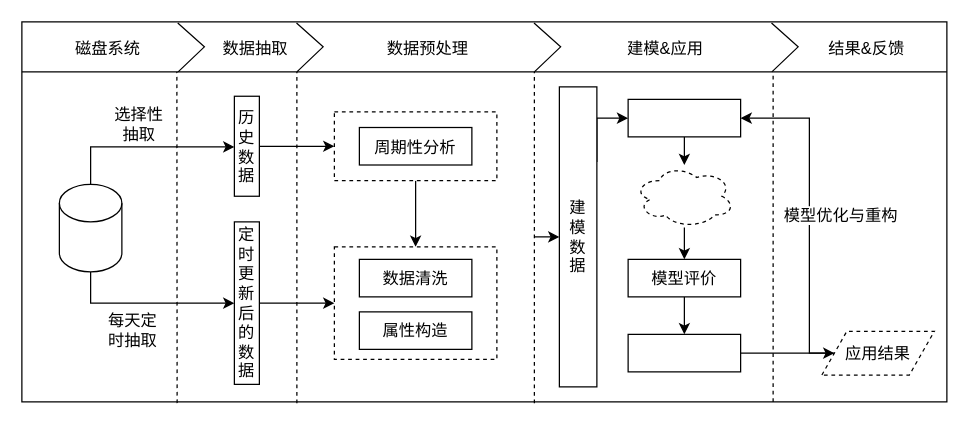
Image size: 970x426. Some labels were removed from this diagram. The box of each missing label's shape, as (x1, y1, x2, y2) in pixels:
Model: (633, 164, 734, 228)
数据源: (58, 183, 122, 272)
时序预测: (627, 98, 741, 137)
模型应用: (627, 333, 741, 372)
